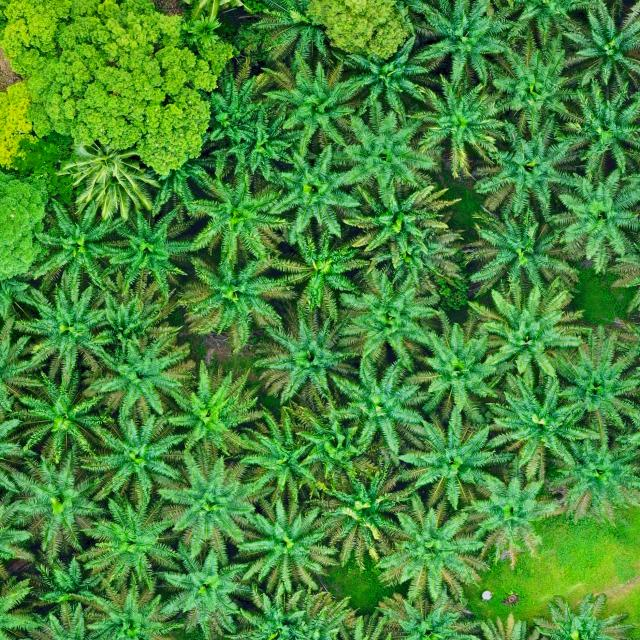Tree: (0, 0, 239, 173), (338, 170, 462, 292), (176, 242, 300, 354), (484, 366, 605, 478), (464, 278, 586, 388), (3, 441, 111, 564), (316, 348, 429, 464), (371, 497, 495, 602), (469, 109, 585, 221), (404, 66, 512, 185), (252, 299, 365, 410), (73, 489, 189, 596), (158, 444, 265, 560), (263, 49, 383, 150), (3, 362, 116, 469), (463, 456, 567, 572), (409, 304, 505, 428), (398, 407, 509, 512), (338, 264, 446, 371), (305, 462, 411, 571), (338, 94, 441, 206), (184, 168, 299, 268), (78, 325, 194, 424), (80, 407, 191, 510), (230, 494, 337, 599), (276, 227, 380, 331), (489, 24, 582, 140), (164, 356, 268, 459), (270, 138, 374, 241), (17, 272, 121, 373), (158, 536, 259, 638), (551, 319, 640, 433), (406, 0, 523, 85), (29, 194, 128, 293), (549, 419, 640, 524), (467, 204, 574, 293), (555, 159, 640, 271), (235, 399, 326, 502), (557, 71, 640, 180), (109, 194, 195, 296), (64, 136, 164, 221), (82, 274, 180, 360), (74, 567, 184, 640), (204, 57, 286, 149), (561, 0, 640, 94), (0, 165, 50, 282), (0, 312, 45, 429), (305, 0, 398, 54), (502, 0, 600, 46), (32, 554, 107, 614), (0, 489, 43, 593), (0, 409, 41, 498), (167, 0, 262, 28)
